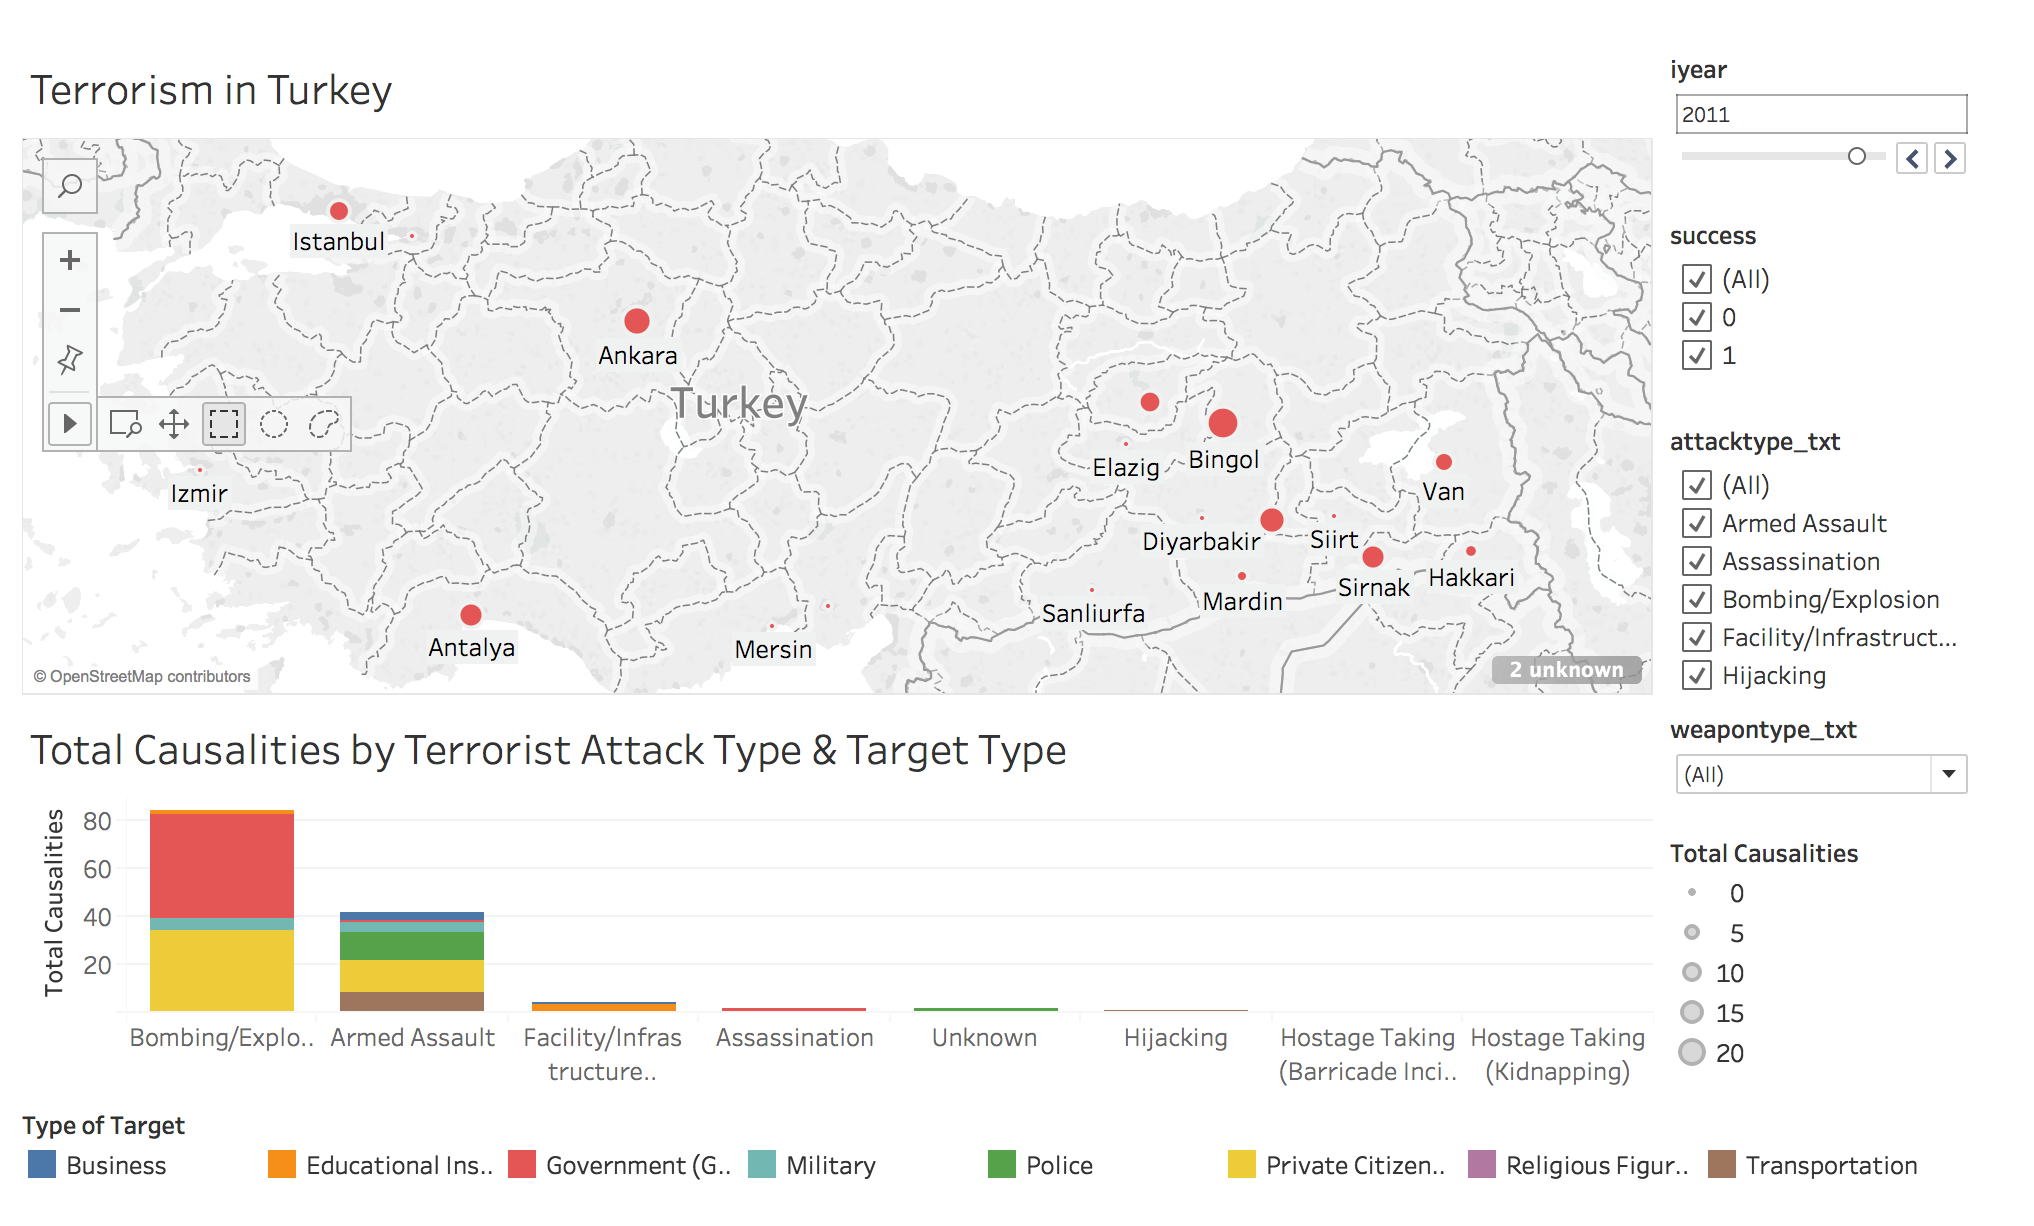

Layout of this report page (visuals, bound fields, positions):
{"tool":"tableau","page":{"name":"Dashboard 1","canvas":[1000,800],"ordinal":0},"visuals":[{"type":"worksheet","title":"Sheet 1","mark":"Automatic","rows":["latitude"],"cols":["longitude"],"box":[8,8,824,784]},{"type":"filter","title":"Sheet 1","param":"[federated.0r33ruc1mmh9n51cb5izi0kvz6ea].[none:iyear:ok]","box":[832,8,160,75]},{"type":"filter","title":"Sheet 1","param":"[federated.0r33ruc1mmh9n51cb5izi0kvz6ea].[none:success:ok]","box":[832,83,160,89]},{"type":"filter","title":"Sheet 1","param":"[federated.0r33ruc1mmh9n51cb5izi0kvz6ea].[none:attacktype_txt:nk]","box":[832,172,160,52]},{"type":"legend","title":"Sheet 1","param":"[federated.0r33ruc1mmh9n51cb5izi0kvz6ea].[none:attacktype_txt:nk]","box":[832,224,160,126]},{"type":"legend","title":"Sheet 1","param":"[federated.0r33ruc1mmh9n51cb5izi0kvz6ea].[sum:Calculation_5759541039107858432:qk","box":[832,350,160,166]}]}

Visuals, with their boxes on the page's 1000x800 design canvas (x1, y1, x2, y2). These are canvas units, not pixel positions in the 2034x1226 screenshot, which may show the page scaled, cropped or inside an application window:
"Sheet 1" worksheet: (8,8,832,792)
"Sheet 1" filter: (832,8,992,83)
"Sheet 1" filter: (832,83,992,172)
"Sheet 1" filter: (832,172,992,224)
"Sheet 1" legend: (832,224,992,350)
"Sheet 1" legend: (832,350,992,516)
